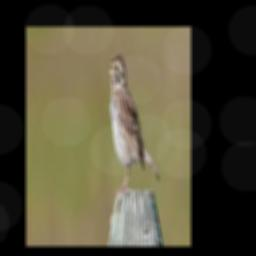Sparrow: (108, 54, 160, 191)
